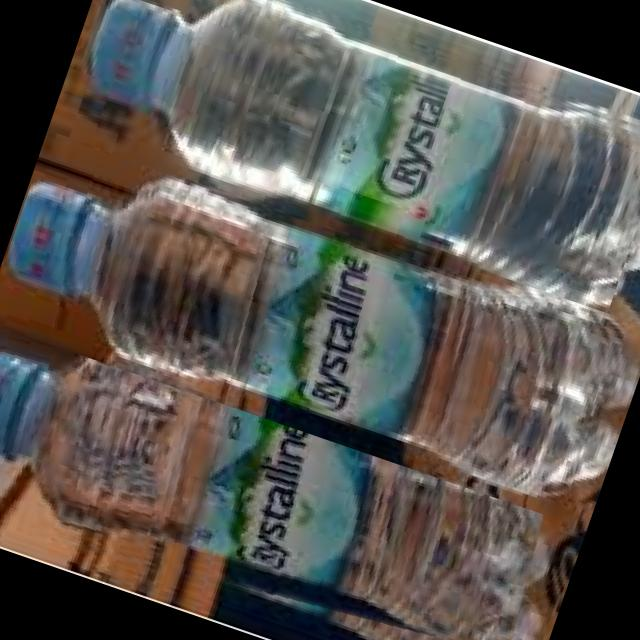plastic bottle: (0, 129, 627, 519), (50, 0, 640, 312), (0, 317, 556, 640)
